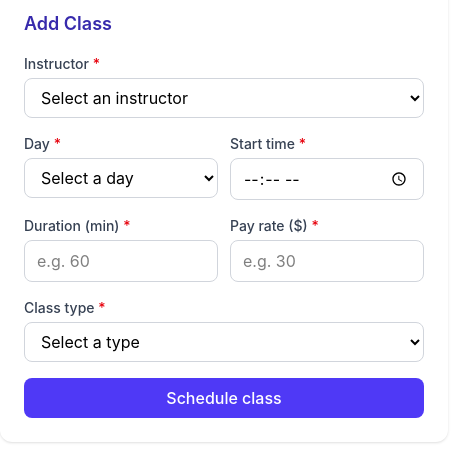
Test case: ClassForm › shows suggested alternative times when the slot conflicts
Select "Asha Rao (I00001)" in the dropdown labelled "Instructor *" at (224, 98), box [24, 78, 424, 118]
Select "Monday" in the dropdown labelled "Day *" at (121, 178), box [24, 158, 218, 198]
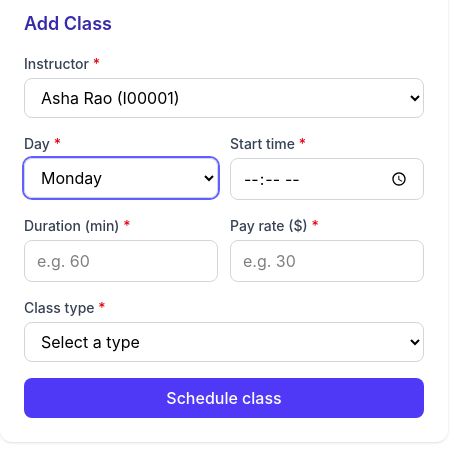
Type "10:00" into the time field labelled "Start time *" at (327, 179), box [230, 158, 424, 200]
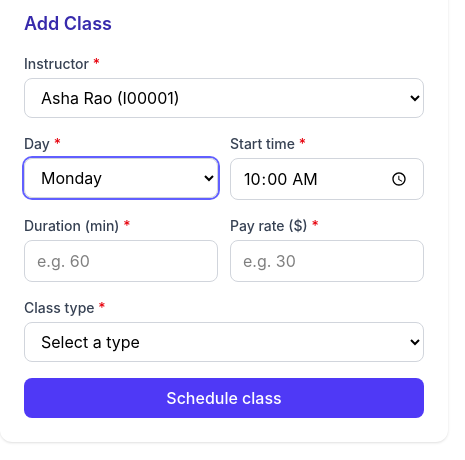
Type "60" into the number field labelled "Duration (min) *" at (121, 261), box [24, 240, 218, 282]
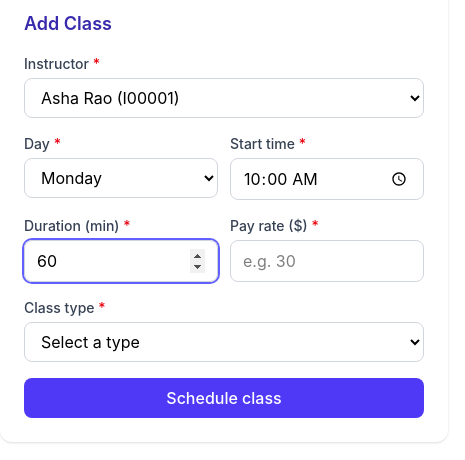
Type "30" into the number field labelled "Pay rate ($) *" at (327, 261), box [230, 240, 424, 282]
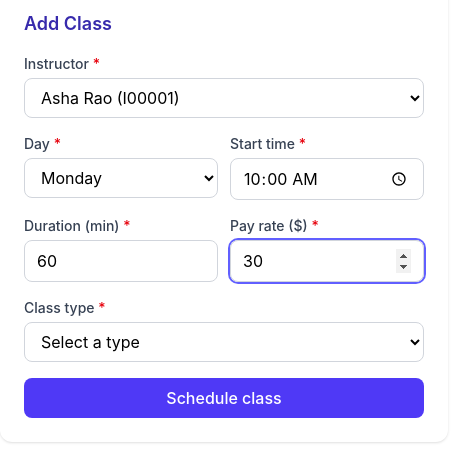
Select "General" in the dropdown labelled "Class type *" at (224, 342), box [24, 322, 424, 362]
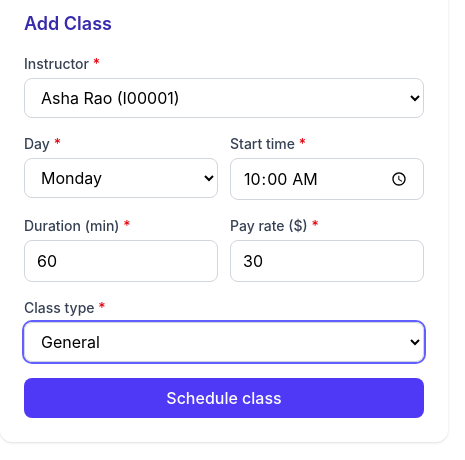
Click the button "Schedule class" at (224, 398), box [24, 378, 424, 418]
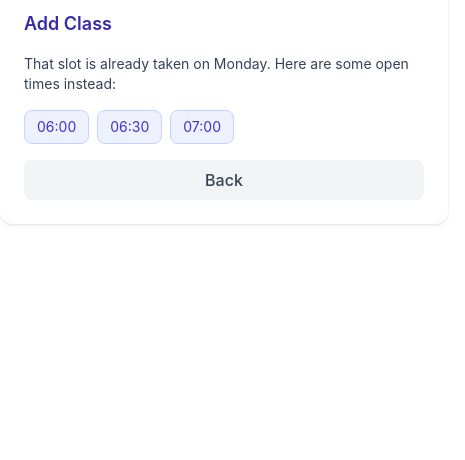
Check: the text "already taken" is shown, box [24, 55, 214, 72]
Check: the button "06:00" is shown, box [24, 110, 89, 144]
Check: the button "06:30" is shown, box [97, 110, 162, 144]
